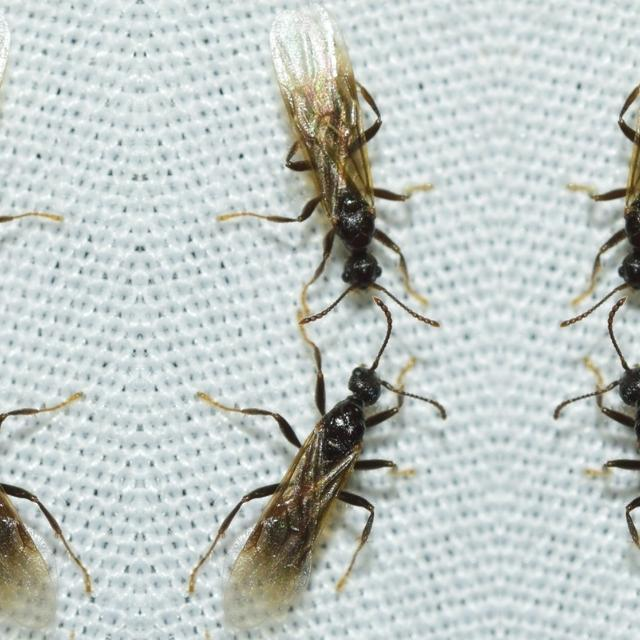Myrmica: (247, 3, 448, 543), (194, 285, 433, 633), (550, 3, 640, 543), (0, 285, 82, 633), (564, 285, 640, 633)
